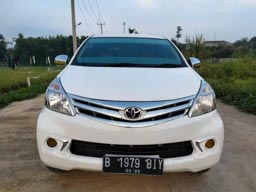plat: (104, 155, 163, 168)
